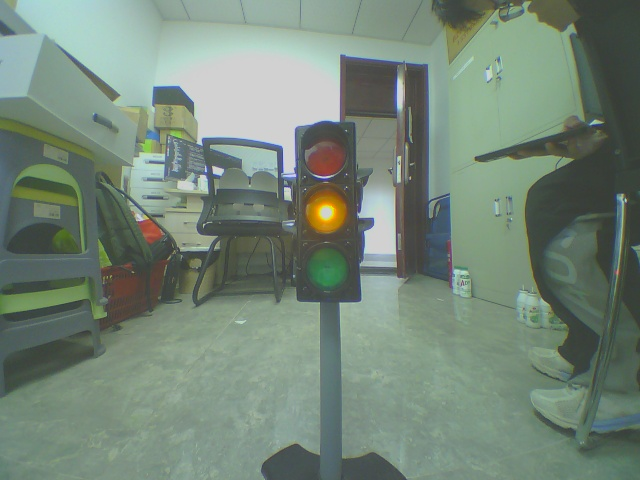Yellow: (278, 117, 379, 308)
